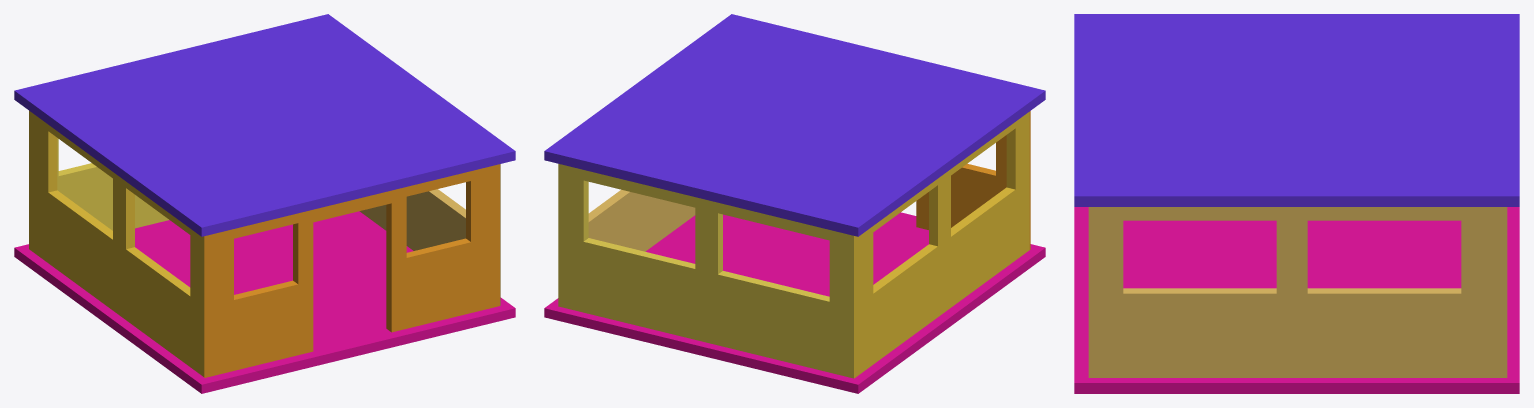
The model's file is securityBox1Many.fbx.
3 renders of one model, left to right at view 1: azimuth 30°, elevation 25°; view 2: azimuth 150°, elevation 25°; view 3: azimuth 270°, elevation 25°, orthographic. The views are drawn at different scales.
Visible parts, largest first — view 1: Cube.001, Куб, Cube, Куб.002, Куб.003, Куб.004; view 2: Cube.001, Куб.004, Куб.002, Cube, Куб.003, Куб; view 3: Cube.001, Куб.003, Cube.
Boxes of the visible parts, bbox=[...] form: Cube.001: bbox=[14, 14, 515, 236]; Куб: bbox=[204, 164, 499, 377]; Cube: bbox=[14, 211, 515, 393]; Куб.002: bbox=[29, 111, 204, 376]; Куб.003: bbox=[359, 164, 500, 305]; Куб.004: bbox=[57, 138, 168, 230]; Cube.001: bbox=[544, 14, 1045, 236]; Куб.004: bbox=[558, 164, 853, 378]; Куб.002: bbox=[854, 112, 1029, 378]; Cube: bbox=[544, 212, 1045, 393]; Куб.003: bbox=[588, 189, 695, 251]; Куб: bbox=[916, 111, 1030, 249]; Cube.001: bbox=[1074, 14, 1519, 206]; Куб.003: bbox=[1088, 207, 1507, 377]; Cube: bbox=[1074, 207, 1519, 393].
Bounding box in the file's own units: 509 × 258 × 526.
